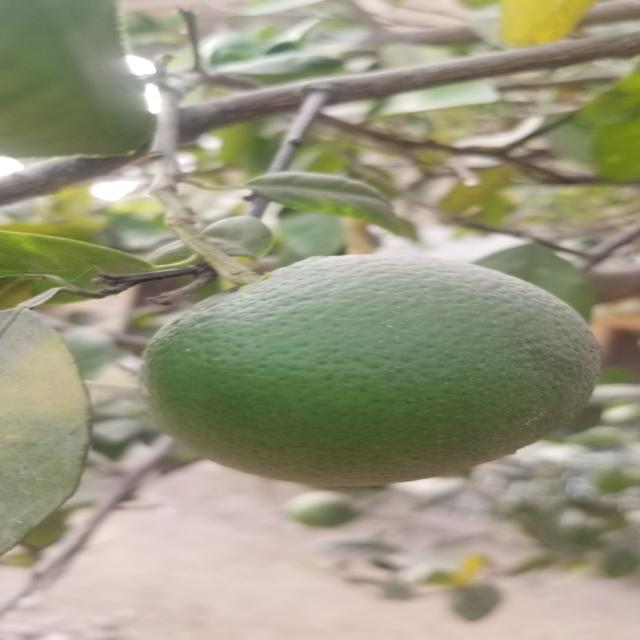Unripe: (134, 256, 601, 487)
